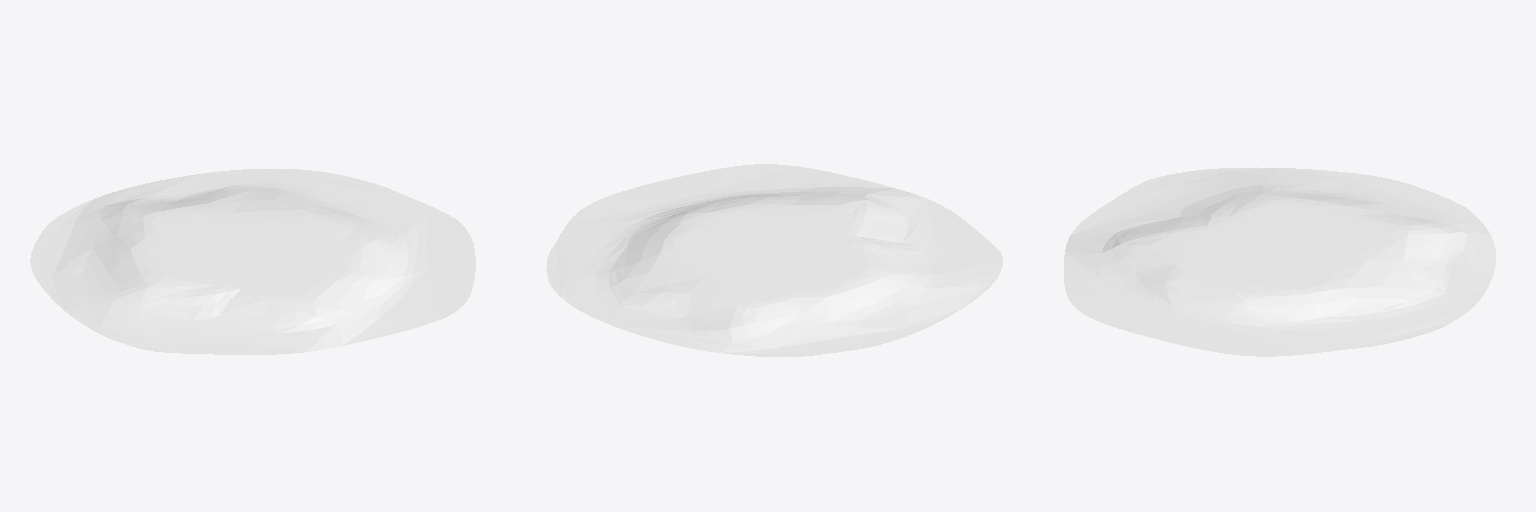
Rendered from Ground.obj.
3 views of the same model, side by side, from view 1: azimuth 30°, elevation 25°; view 2: azimuth 150°, elevation 25°; view 3: azimuth 270°, elevation 25° (orthographic).
Parts seen in each view (by area): view 1: SM_Env_Beach_06_Mesh; view 2: SM_Env_Beach_06_Mesh; view 3: SM_Env_Beach_06_Mesh.
Part boxes in pixels (bbox=[...]): SM_Env_Beach_06_Mesh: bbox=[30, 169, 475, 354]; SM_Env_Beach_06_Mesh: bbox=[546, 164, 1002, 356]; SM_Env_Beach_06_Mesh: bbox=[1064, 167, 1495, 356].
Bounding box in the file's own units: 526 × 16.04 × 508.